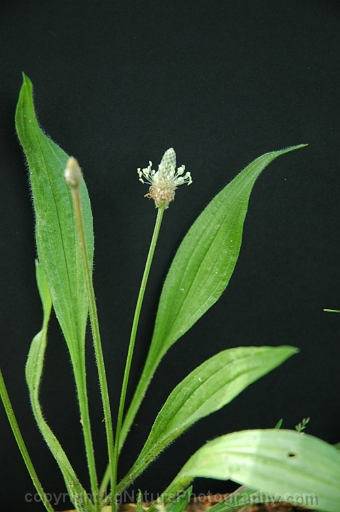buckhorn plantain: (4, 66, 283, 491)
